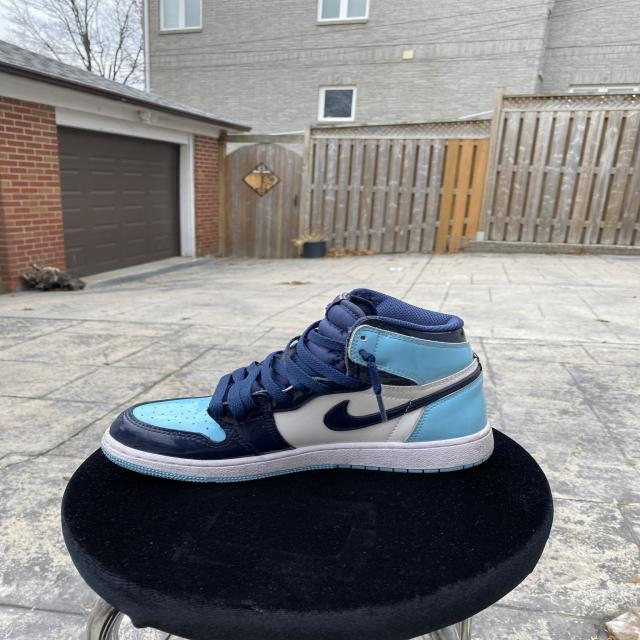shoes: (100, 287, 500, 487)
